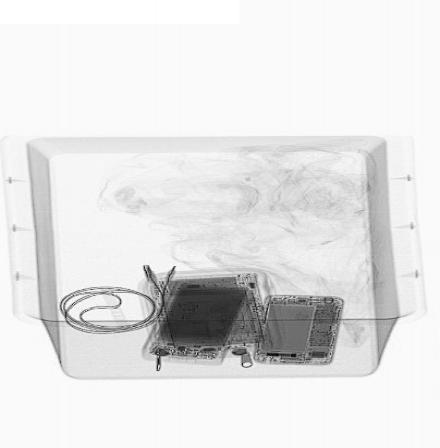Powerbank: (151, 273, 281, 349)
